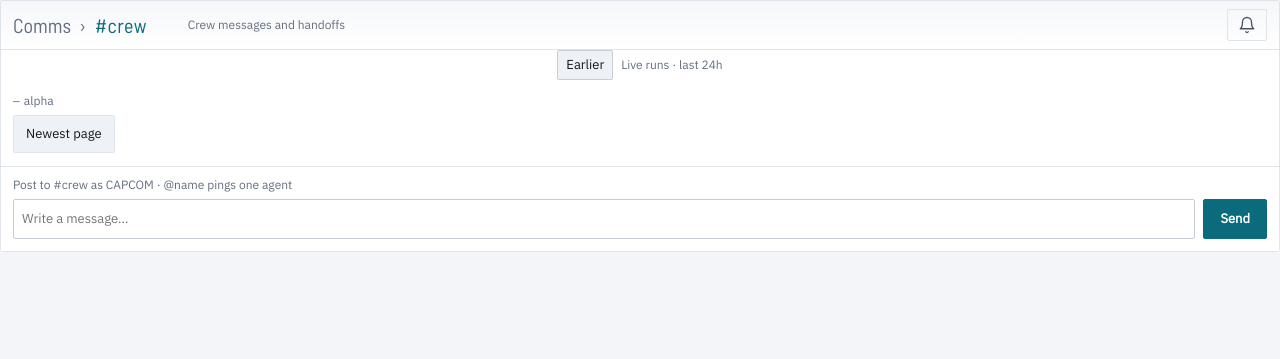
Comms routes › says so when older messages cannot be loaded
expect the text "Newest page" is shown: met, box [13,115,115,153]
Step 1. Click the button "Earlier" → (585, 65), box [557,50,613,80]
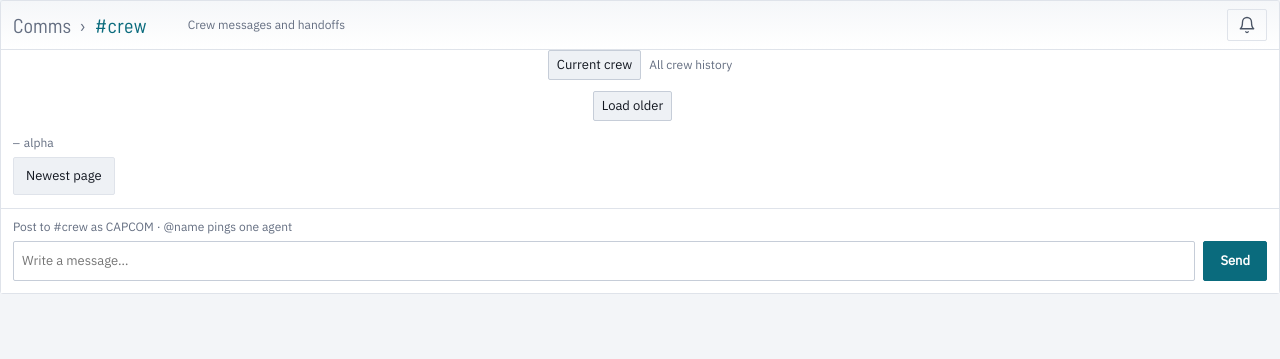
Step 2. Click the button "Load older" → (633, 106), box [593,91,672,121]
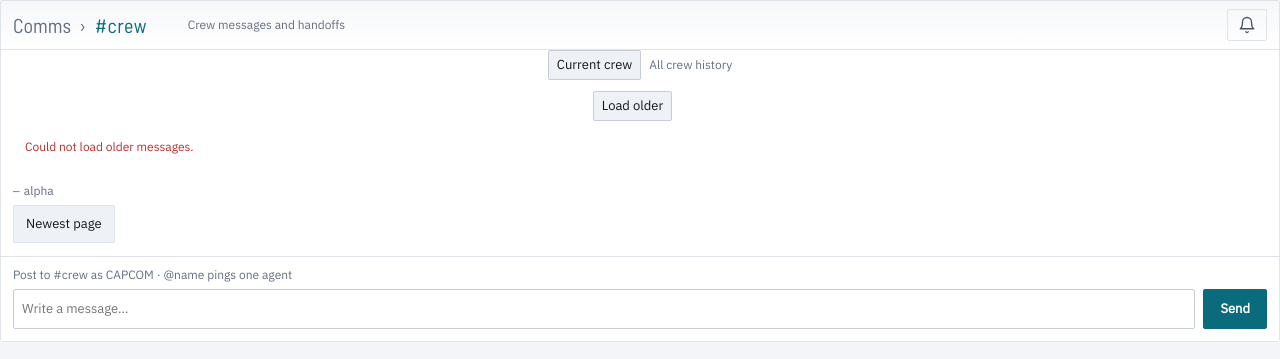
expect the button "Load older" is shown: met, box [593,91,672,121]
expect the text "Could not load older messages." is shown: met, box [25,139,194,154]
